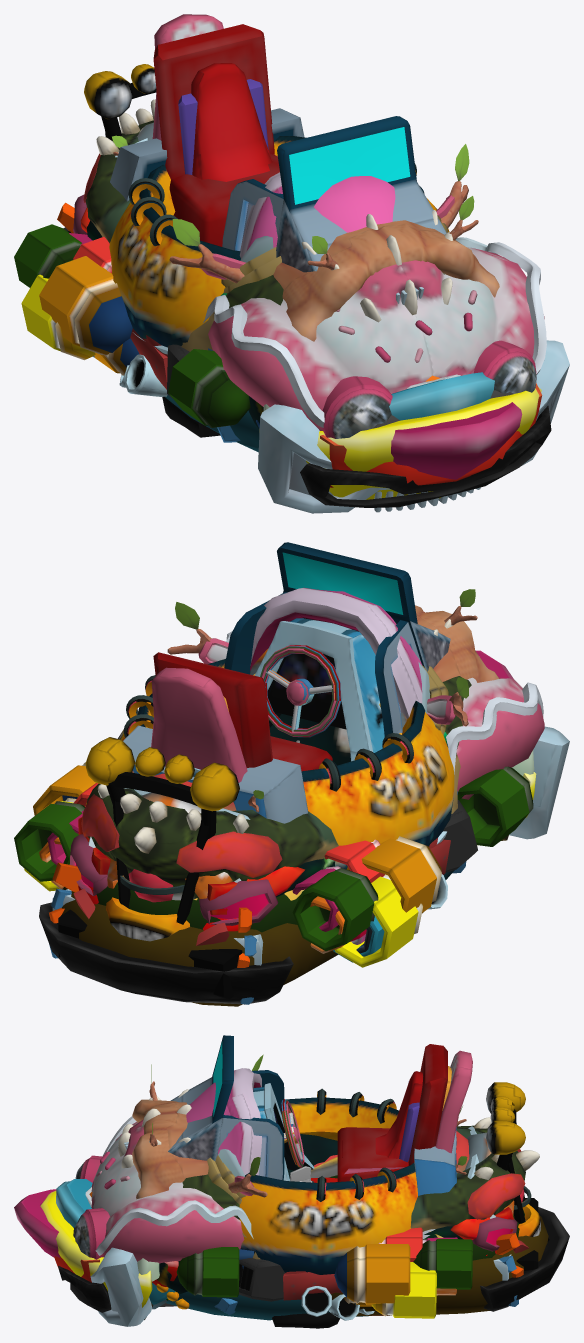
The model's file is Boats.FBX.
The picture shows the model from 3 angles, top to bottom: view 1: azimuth 30°, elevation 25°; view 2: azimuth 150°, elevation 25°; view 3: azimuth 270°, elevation 25°; orthographic projection. The views are drawn at different scales.
Visible parts, largest first — view 1: Pamela, Renzo, MikoMole, Tiimy, Sammy, BayouBeaver, Rudo, Bayla, Faelyn, Oscar, Walter; view 2: Tiimy, Pamela, MikoMole, BayouBeaver, Rudo, Renzo, Faelyn, Sammy, Bayla, Walter, Oscar; view 3: Pamela, MikoMole, Tiimy, Rudo, Renzo, BayouBeaver, Sammy, Faelyn, Bayla, Walter, Oscar.
Boxes of the visible parts, bbox=[...] form: Pamela: bbox=[69, 14, 569, 513]; Renzo: bbox=[110, 63, 460, 442]; MikoMole: bbox=[39, 136, 449, 355]; Tiimy: bbox=[14, 99, 452, 427]; Sammy: bbox=[73, 135, 499, 341]; BayouBeaver: bbox=[68, 24, 513, 428]; Rudo: bbox=[21, 227, 551, 507]; Bayla: bbox=[178, 79, 395, 258]; Faelyn: bbox=[92, 356, 542, 485]; Oscar: bbox=[94, 338, 333, 487]; Walter: bbox=[57, 202, 269, 429]; Tiimy: bbox=[14, 619, 533, 951]; Pamela: bbox=[47, 631, 569, 965]; MikoMole: bbox=[33, 646, 457, 941]; BayouBeaver: bbox=[39, 645, 407, 999]; Rudo: bbox=[24, 772, 536, 1006]; Renzo: bbox=[49, 542, 466, 1004]; Faelyn: bbox=[193, 618, 454, 962]; Sammy: bbox=[73, 589, 499, 882]; Bayla: bbox=[250, 587, 422, 944]; Walter: bbox=[49, 669, 534, 967]; Oscar: bbox=[264, 652, 477, 872]; Pamela: bbox=[14, 1050, 517, 1326]; MikoMole: bbox=[239, 1088, 540, 1305]; Tiimy: bbox=[118, 1089, 539, 1300]; Rudo: bbox=[40, 1067, 569, 1328]; Renzo: bbox=[85, 1035, 518, 1315]; BayouBeaver: bbox=[73, 1044, 538, 1306]; Sammy: bbox=[132, 1054, 469, 1286]; Faelyn: bbox=[54, 1083, 368, 1320]; Bayla: bbox=[186, 1068, 419, 1175]; Walter: bbox=[137, 1066, 523, 1309]; Oscar: bbox=[239, 1133, 408, 1306].
Size of the model in its own units: 252 by 201 by 427.
